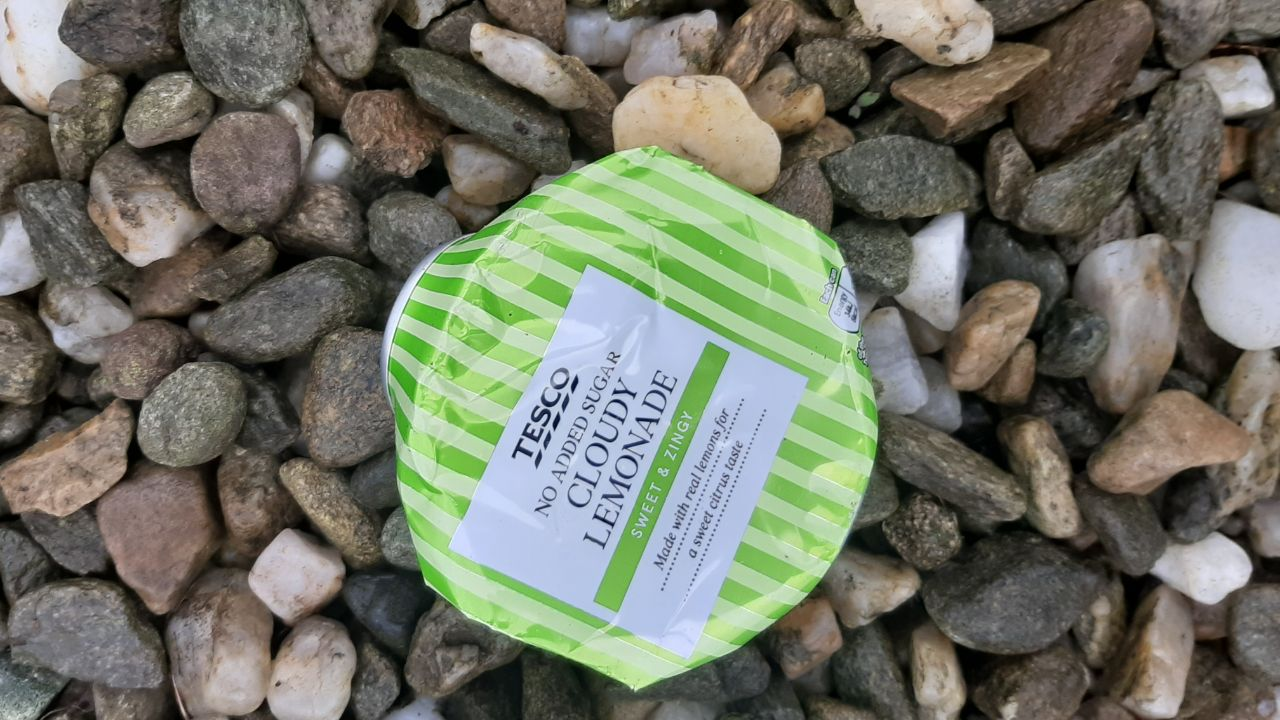Can: (382, 147, 879, 692)
